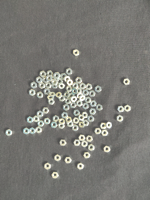nut: (5, 129, 13, 137), (88, 144, 95, 152), (117, 115, 124, 123), (66, 68, 73, 76), (52, 172, 59, 179), (44, 163, 51, 170), (77, 163, 84, 170), (84, 152, 91, 159), (104, 146, 111, 153), (74, 140, 81, 147), (60, 140, 67, 147), (79, 135, 86, 142), (86, 136, 93, 143), (95, 128, 102, 135), (102, 130, 109, 137), (100, 123, 107, 130), (106, 122, 113, 129), (118, 106, 125, 113), (23, 128, 30, 135), (29, 128, 36, 135), (44, 118, 51, 125), (51, 122, 58, 129), (27, 117, 34, 124), (33, 116, 40, 123), (53, 116, 60, 123), (59, 119, 66, 126), (72, 125, 79, 132), (66, 117, 73, 124), (62, 112, 69, 119), (73, 118, 80, 125), (83, 120, 90, 127), (88, 116, 95, 123), (78, 115, 85, 122), (74, 110, 81, 117), (96, 104, 103, 111), (63, 104, 70, 111), (70, 102, 77, 109), (85, 97, 92, 104), (37, 92, 44, 99), (29, 89, 36, 96), (79, 95, 86, 102), (95, 86, 102, 93), (86, 84, 93, 91), (67, 79, 74, 86), (64, 76, 71, 83), (58, 83, 65, 90), (36, 77, 43, 84), (46, 75, 53, 82), (40, 71, 47, 78), (73, 50, 80, 57), (89, 109, 97, 115), (47, 95, 55, 101), (43, 89, 51, 95), (55, 155, 61, 162), (65, 158, 72, 164), (82, 141, 88, 148), (125, 105, 131, 112), (124, 79, 131, 85), (36, 127, 42, 134), (38, 121, 45, 127), (58, 124, 65, 130), (37, 111, 43, 118), (42, 108, 49, 114), (67, 122, 74, 128), (79, 122, 85, 129), (82, 112, 88, 119), (77, 100, 83, 107), (83, 103, 89, 110), (90, 101, 97, 107), (65, 98, 71, 105), (56, 92, 62, 99), (71, 96, 78, 102), (64, 92, 71, 98), (89, 91, 96, 97), (72, 88, 78, 95), (76, 88, 82, 95), (80, 83, 86, 90), (66, 86, 73, 92), (76, 77, 82, 84), (45, 83, 52, 89), (39, 83, 46, 89), (31, 82, 37, 89), (51, 80, 58, 86), (61, 73, 67, 80), (53, 73, 60, 79), (59, 96, 65, 102), (77, 93, 83, 99), (69, 93, 75, 99), (83, 90, 89, 96), (73, 83, 79, 89), (52, 83, 58, 89), (57, 79, 63, 85), (50, 77, 56, 83), (43, 77, 49, 83), (47, 71, 53, 77), (48, 100, 55, 105), (49, 92, 56, 97)
